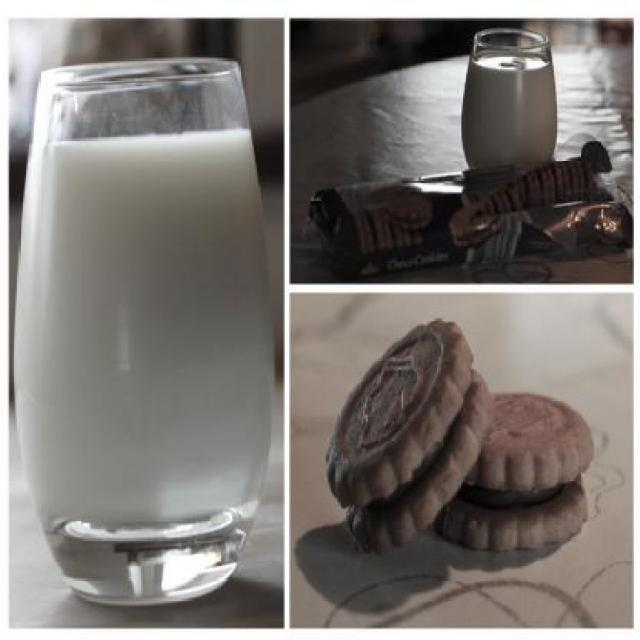Milk: (11, 128, 276, 530), (459, 49, 558, 169)
